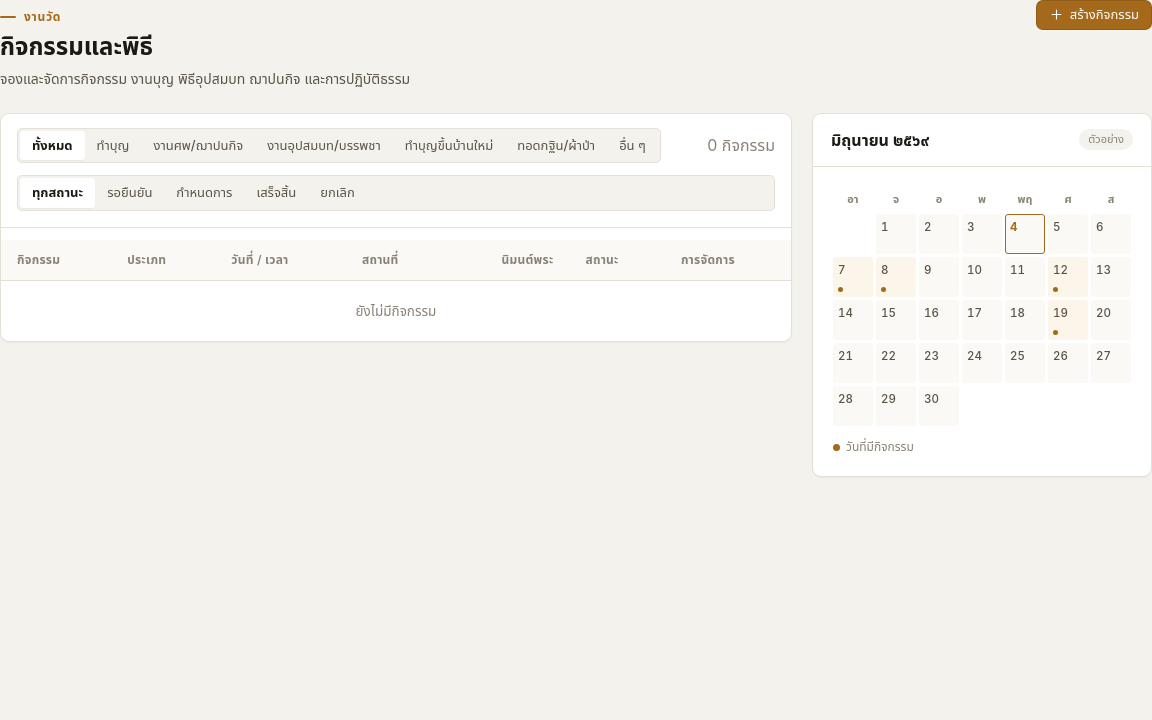
Test: DesignEvents — wired to /ceremonies › shows a visible error banner at the top of the modal when the create is rejected
Step 1. Click the button "สร้างกิจกรรม" → (1094,15), box [1036, 0, 1151, 30]
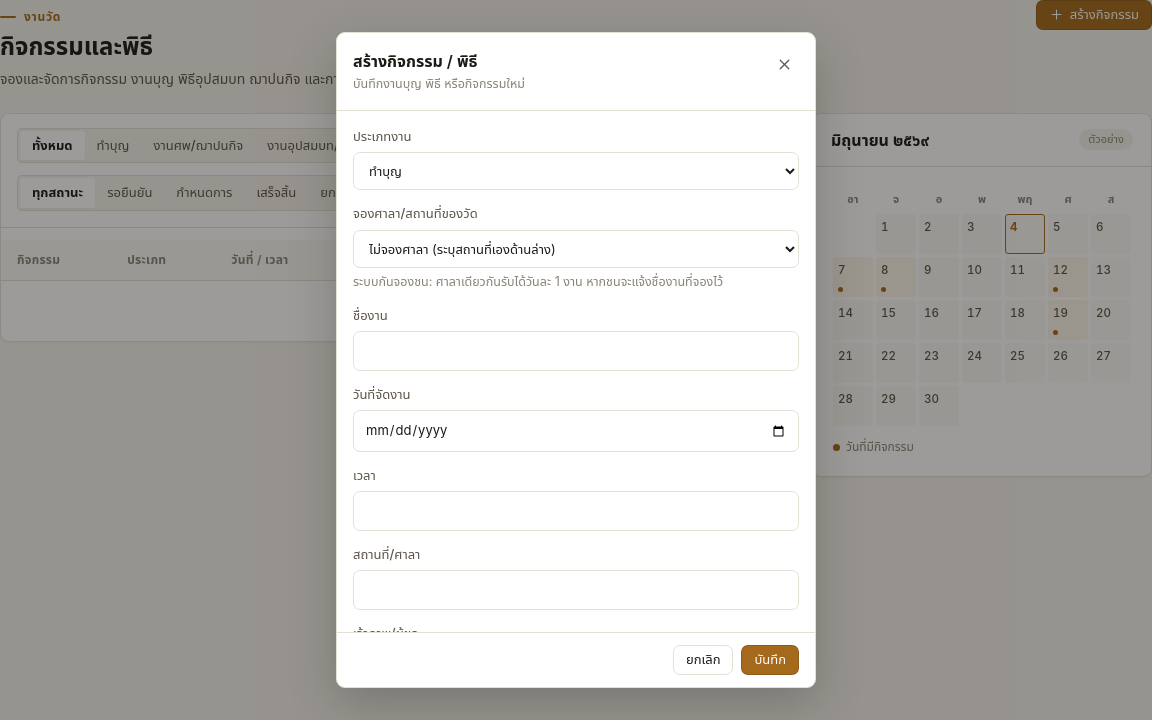
Step 2. Click the button "บันทึก" → (770,660), box [742, 645, 799, 675]
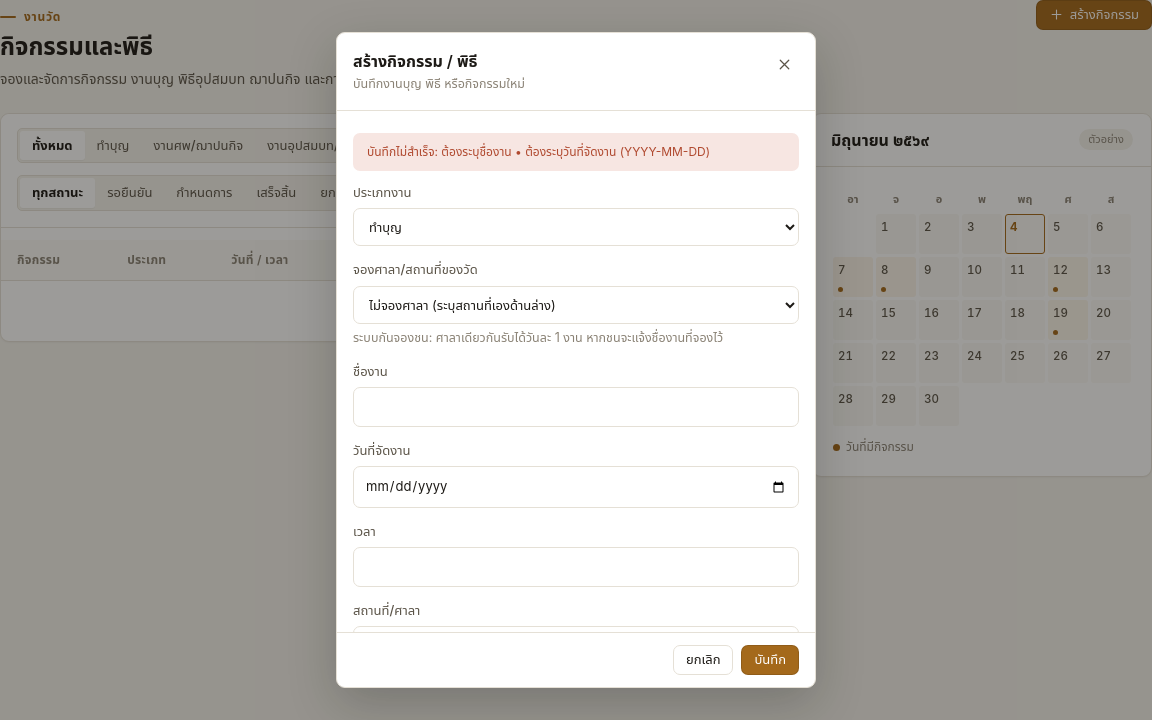
Now the message "บันทึกไม่สำเร็จ: ต้องระบุชื่องาน • ต้องระบุวันที่จัดงาน (YYYY-MM-DD)" is shown, box [353, 133, 799, 171]
